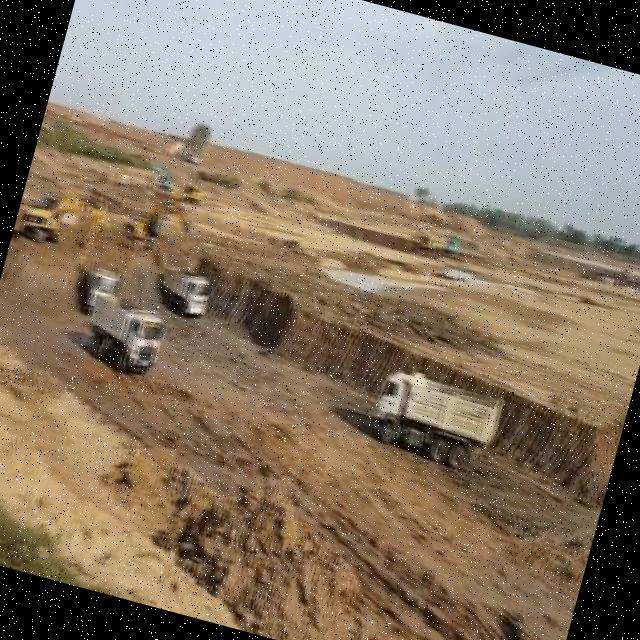Dump Truck: (364, 362, 507, 472), (76, 284, 174, 382), (152, 256, 214, 322)
Excavator: (12, 185, 108, 272), (118, 188, 194, 260)
